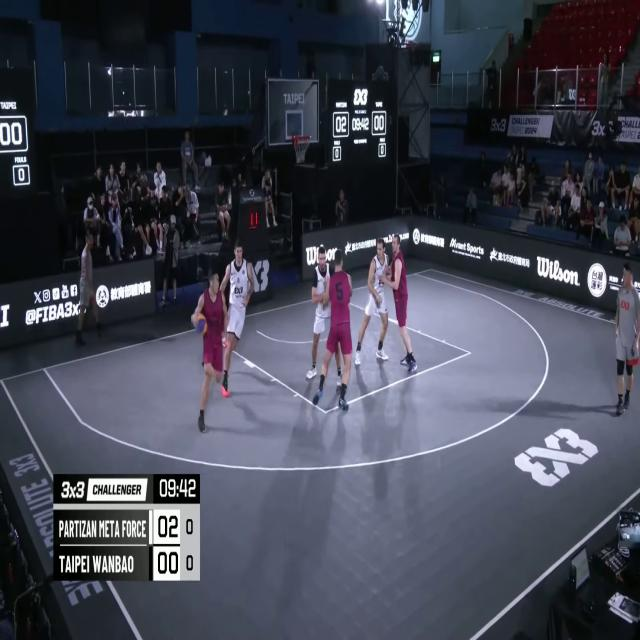ball: (192, 311, 208, 336)
hoop: (292, 132, 312, 164)
player: (312, 250, 353, 414), (218, 241, 258, 400), (192, 268, 229, 430), (382, 232, 418, 374), (307, 243, 339, 388), (357, 237, 388, 369)
